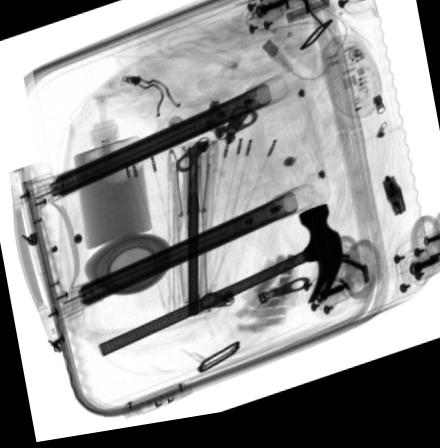Hammer: (97, 213, 342, 359)
